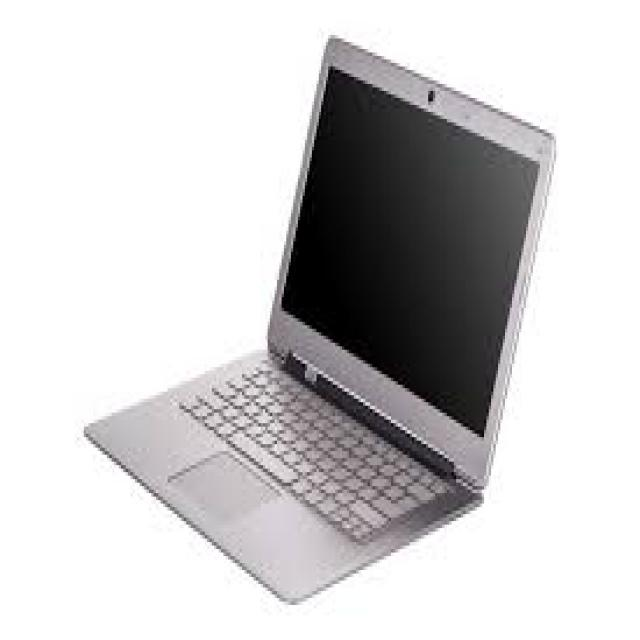others: (81, 28, 575, 602)
